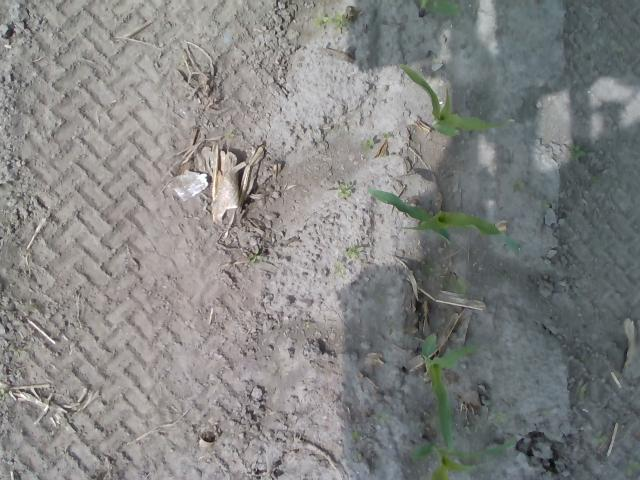Maize: (364, 183, 506, 245), (398, 66, 516, 138), (420, 332, 478, 450), (410, 439, 518, 480), (416, 0, 462, 18)
Weeds: (336, 244, 367, 278), (311, 11, 347, 32), (440, 271, 468, 296), (570, 142, 588, 160), (510, 177, 526, 193), (591, 434, 608, 448), (496, 409, 510, 426), (627, 460, 639, 476), (576, 385, 590, 398), (361, 136, 374, 149), (338, 184, 349, 198), (352, 452, 364, 462), (350, 431, 362, 441), (248, 254, 258, 263), (304, 322, 310, 329)
